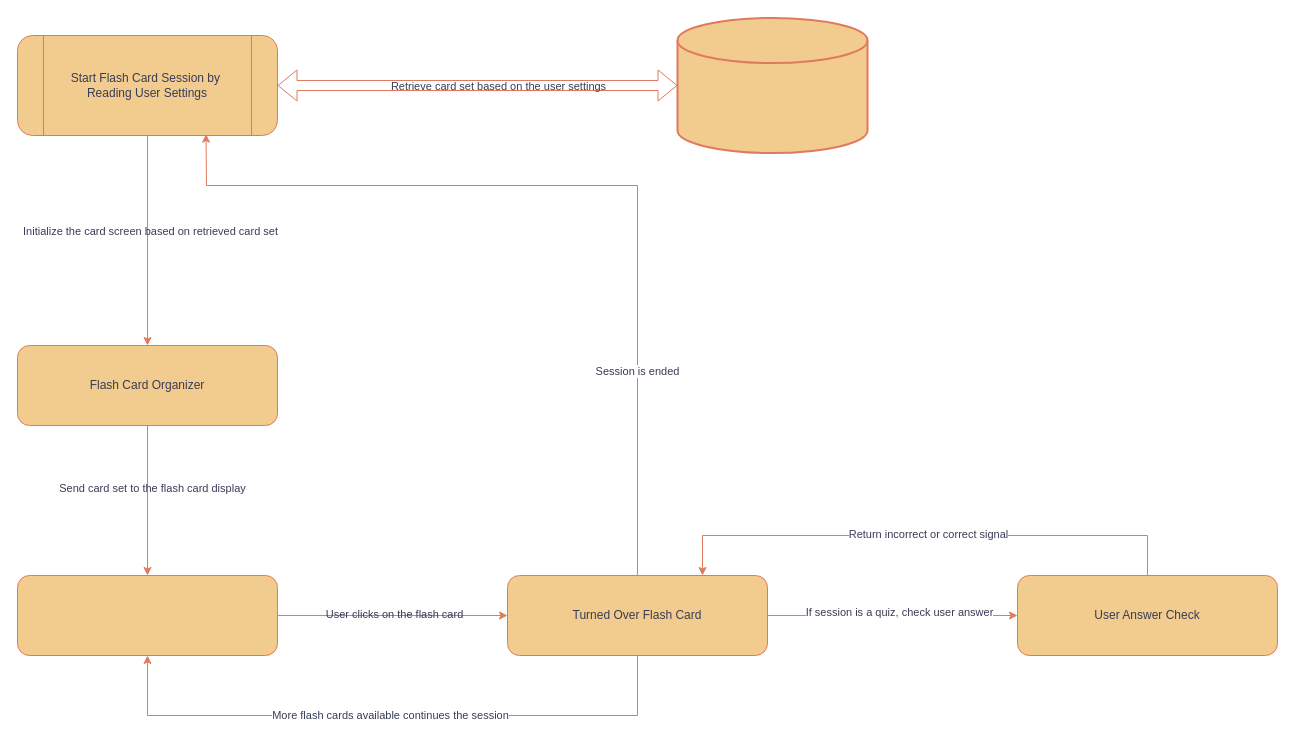
The diagram is 1295 pixels wide and 741 high, and some of its shapes have lost their labels. Here are the shapes that lost their labels. From the top down, the centre of each, then its label:
(772,85): Flash Card Sets Both Default and Custom
(147,615): Flash Card Display
